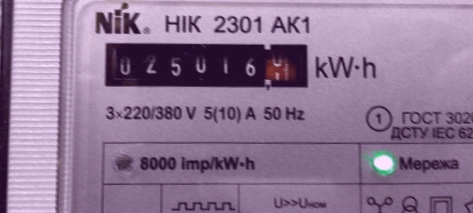0: (194, 51, 208, 74), (118, 54, 131, 76), (270, 47, 283, 67)
1: (219, 50, 230, 75), (272, 70, 280, 81)
2: (144, 51, 157, 74)
5: (169, 55, 180, 76)
6: (243, 54, 256, 79)
screen: (95, 32, 318, 96)
